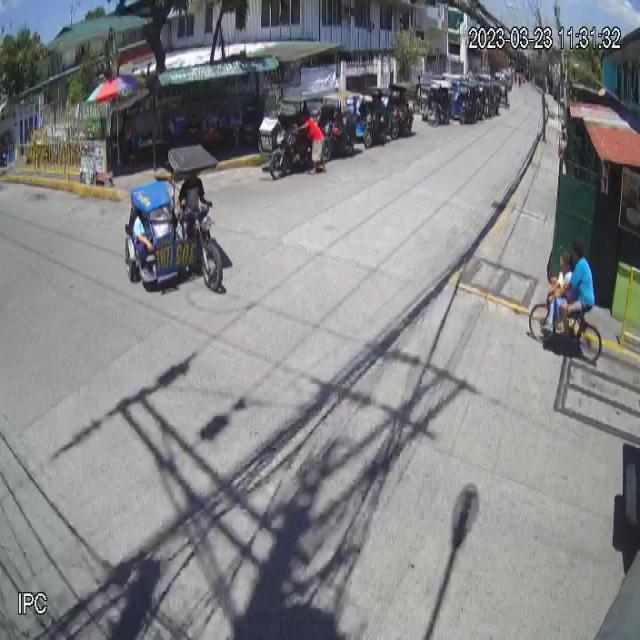Tricycle: (125, 144, 223, 293)
